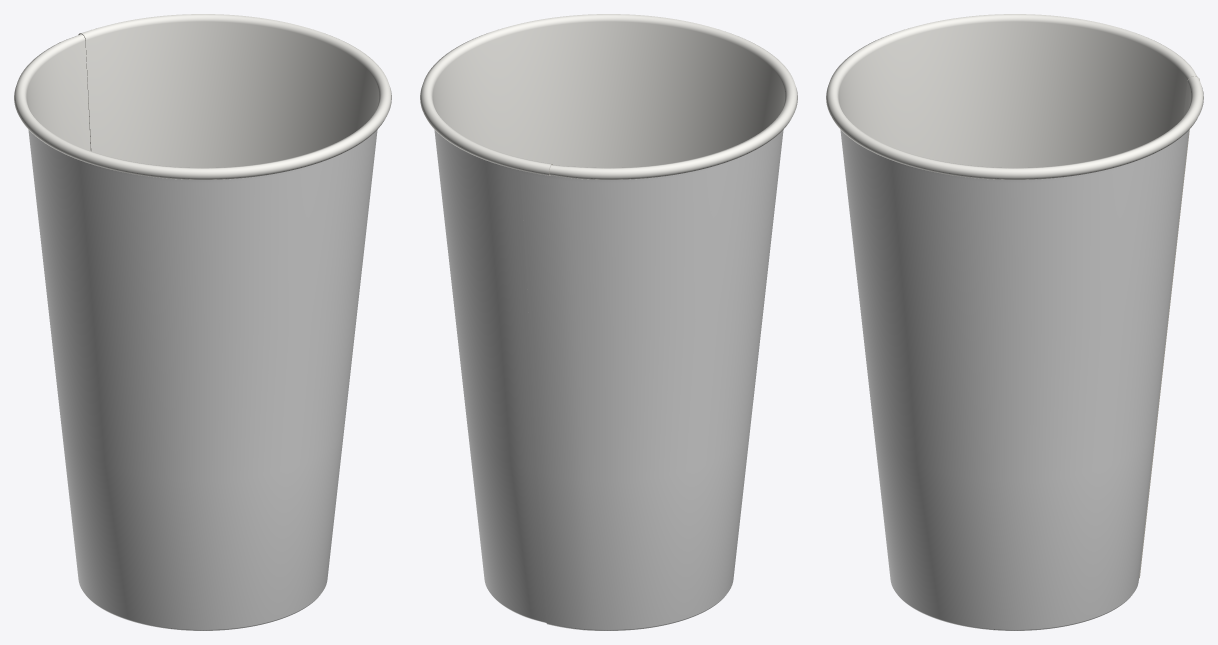
3 views of the same model, side by side, from view 1: azimuth 30°, elevation 25°; view 2: azimuth 150°, elevation 25°; view 3: azimuth 270°, elevation 25° (orthographic).
Parts seen in each view (by area): view 1: Cup_Wall; view 2: Cup_Wall; view 3: Cup_Wall.
Boxes of the visible parts, box(x1,y1,x2,y2) form: Cup_Wall: box(14, 14, 391, 630); Cup_Wall: box(420, 14, 797, 630); Cup_Wall: box(826, 14, 1203, 630).
Size of the model in its own units: 0.0727 by 0.1036 by 0.0727.
Materials: 3 (1 with a texture image).
